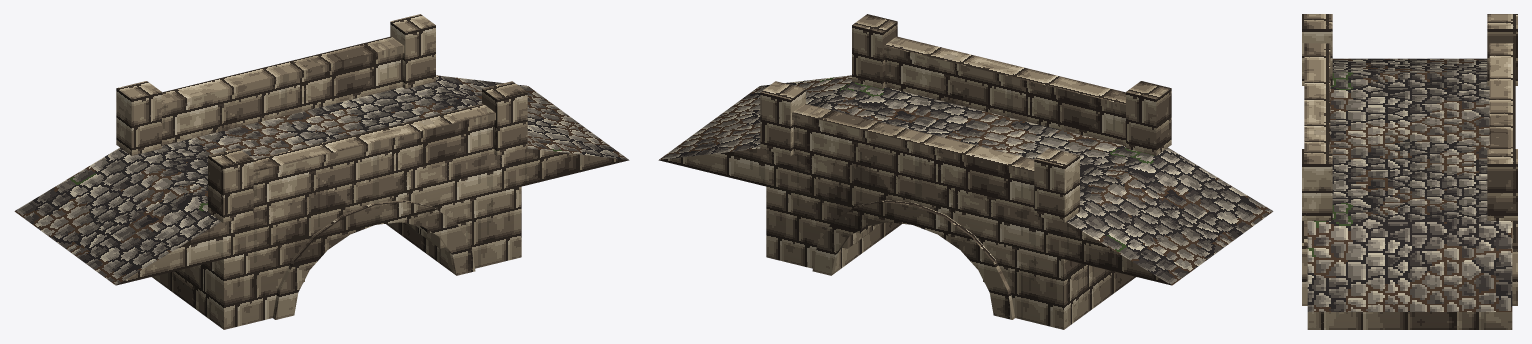
File: MV_Bridge.glb
The picture shows the model from 3 angles, left to right: view 1: azimuth 30°, elevation 25°; view 2: azimuth 150°, elevation 25°; view 3: azimuth 270°, elevation 25°; orthographic projection.
Visible parts, largest first — view 1: MV_Bridge_Stone_A.MV_Bridge; view 2: MV_Bridge_Stone_A.MV_Bridge; view 3: MV_Bridge_Stone_A.MV_Bridge.
Boxes of the visible parts, left/top/right/bottom form: MV_Bridge_Stone_A.MV_Bridge: left=14, top=14, right=629, bottom=329; MV_Bridge_Stone_A.MV_Bridge: left=658, top=14, right=1273, bottom=329; MV_Bridge_Stone_A.MV_Bridge: left=1302, top=14, right=1517, bottom=329.
Bounding box in the file's own units: 7.6 × 2.35 × 2.74.
Materials: 2 (2 with a texture image).
